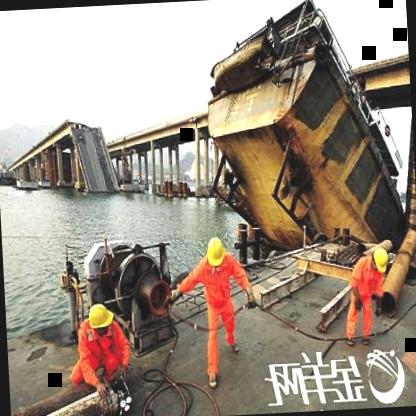helmet: (82, 299, 114, 337), (202, 233, 226, 271), (369, 247, 392, 274)
